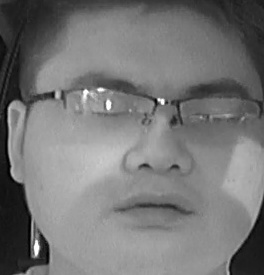glass: (61, 86, 158, 137), (175, 92, 261, 146)
mouth: (117, 187, 191, 231)
